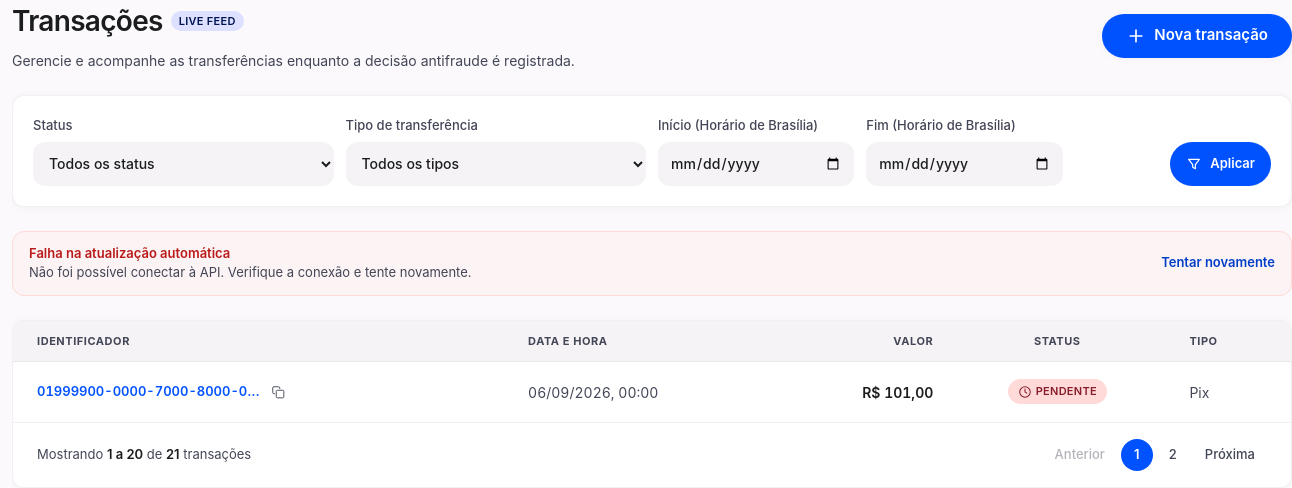
Test: web/TransactionsListView — TI-06 (acompanhamento) › recupera após falha ao clicar em tentar novamente
Expected: the text "Pendente" is shown, [1008,379,1107,404]
Expected: the text "Falha na atualização automática" is shown, [29,244,230,260]
Click the button "Tentar novamente".
click(1218, 263)  # box [1161,253,1275,273]
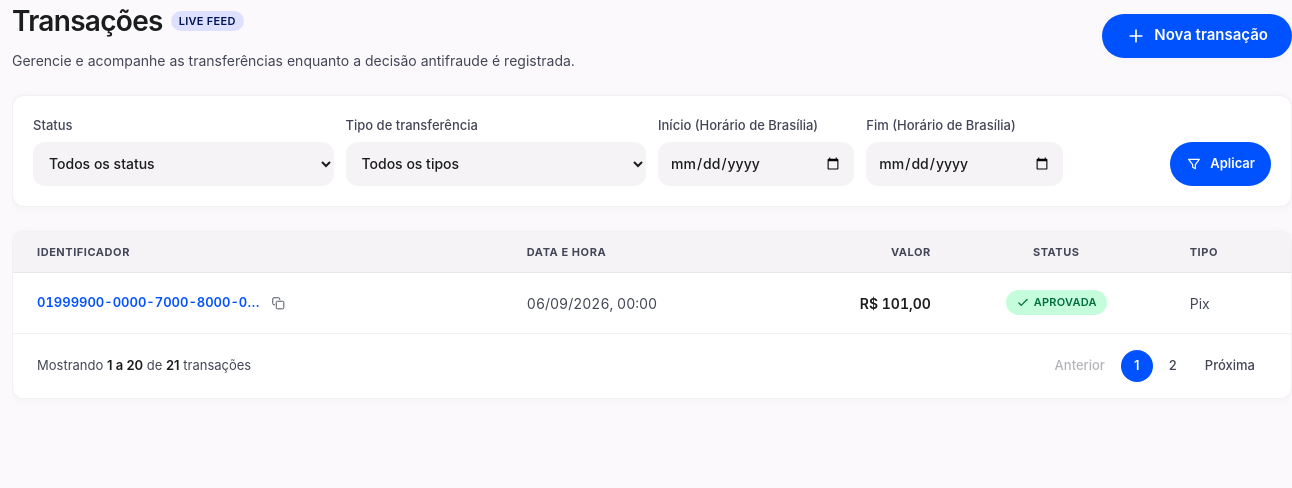
Expected: the text "Falha na atualização automática" is gone
Expected: the text "Aprovada" is shown, [1006,290,1107,315]
